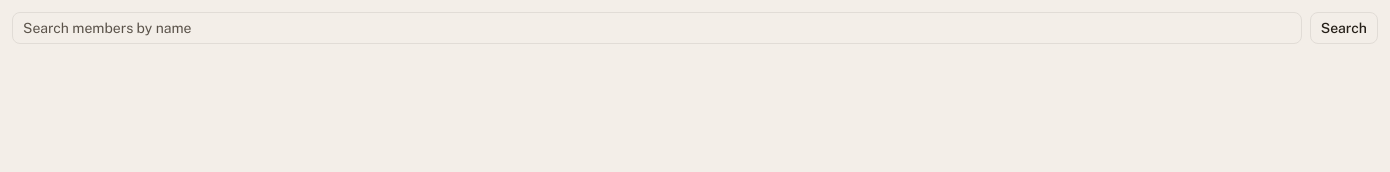
Test: SpousePicker › shows a no-match message and a failure message
In the field named "Search for the spouse": [657, 28] box [12,12,1302,44], type "zed"
Then press Enter
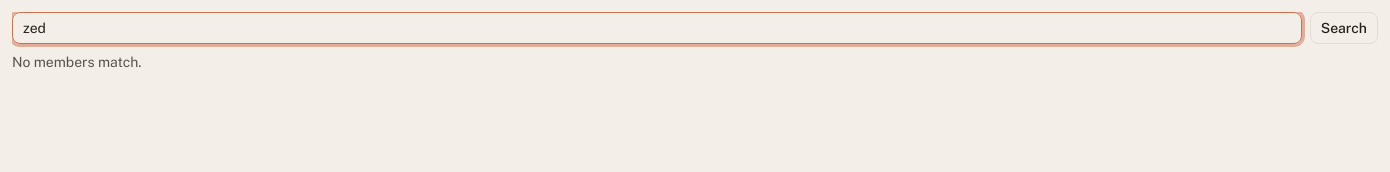
Result: the text "No members match." is shown at [12,54,142,70]
Click the button "Search": [1344, 28] box [1310,12,1378,44]
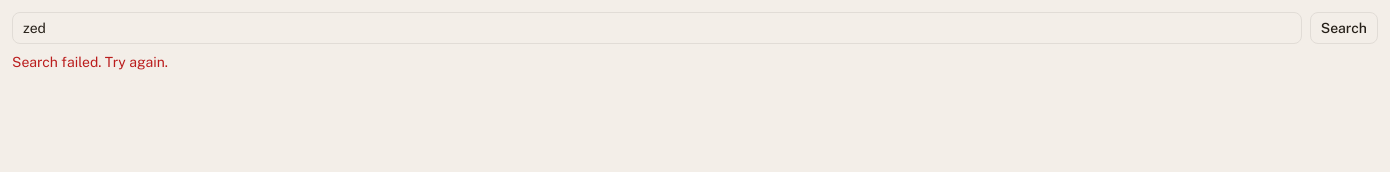
Result: the message shows "Search failed" at [12,54,168,70]
